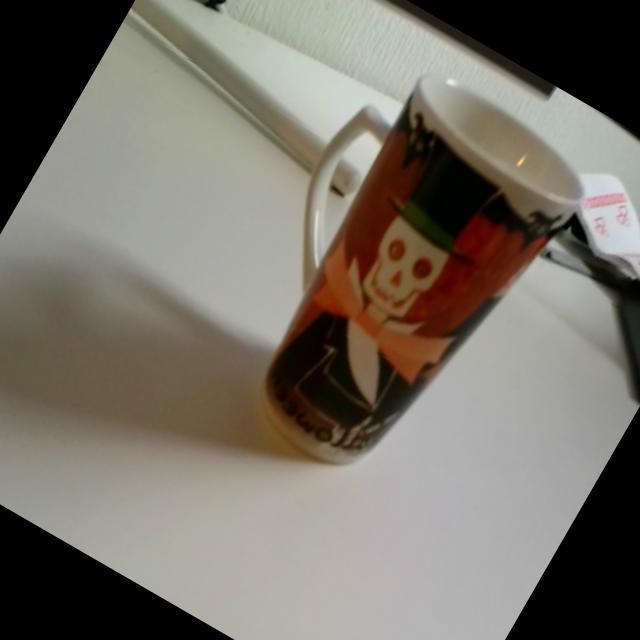cup: (182, 38, 606, 516)
